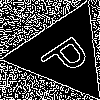P: (38, 28, 100, 82)
